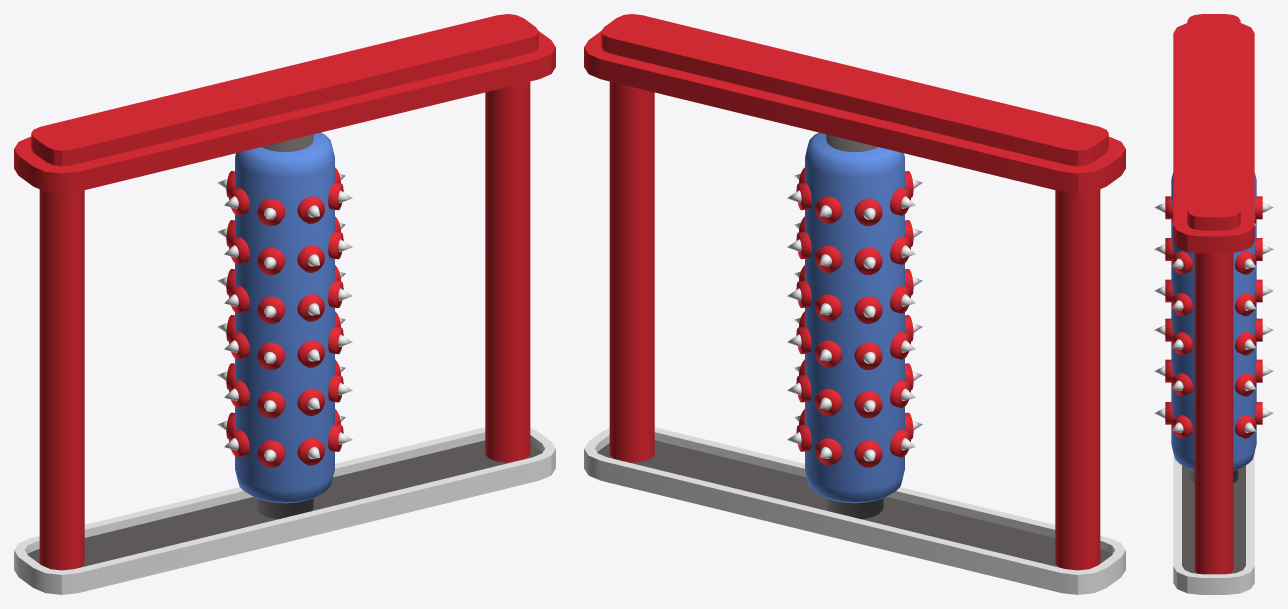
The model's file is Obstacle 21 V1.fbx.
The picture shows the model from 3 angles, left to right: view 1: azimuth 30°, elevation 25°; view 2: azimuth 150°, elevation 25°; view 3: azimuth 270°, elevation 25°; orthographic projection. The views are drawn at different scales.
Parts seen in each view (by area): view 1: O21 Part 1, O21 Part 2; view 2: O21 Part 1, O21 Part 2; view 3: O21 Part 1, O21 Part 2.
Boxes of the visible parts, bbox=[...] form: O21 Part 1: bbox=[14, 14, 555, 594]; O21 Part 2: bbox=[217, 132, 352, 519]; O21 Part 1: bbox=[584, 14, 1125, 594]; O21 Part 2: bbox=[787, 132, 922, 519]; O21 Part 1: bbox=[1173, 14, 1254, 594]; O21 Part 2: bbox=[1154, 172, 1273, 482].
Bounding box in the file's own units: 282 × 231 × 66.38.
Materials: 1 (1 with a texture image).
